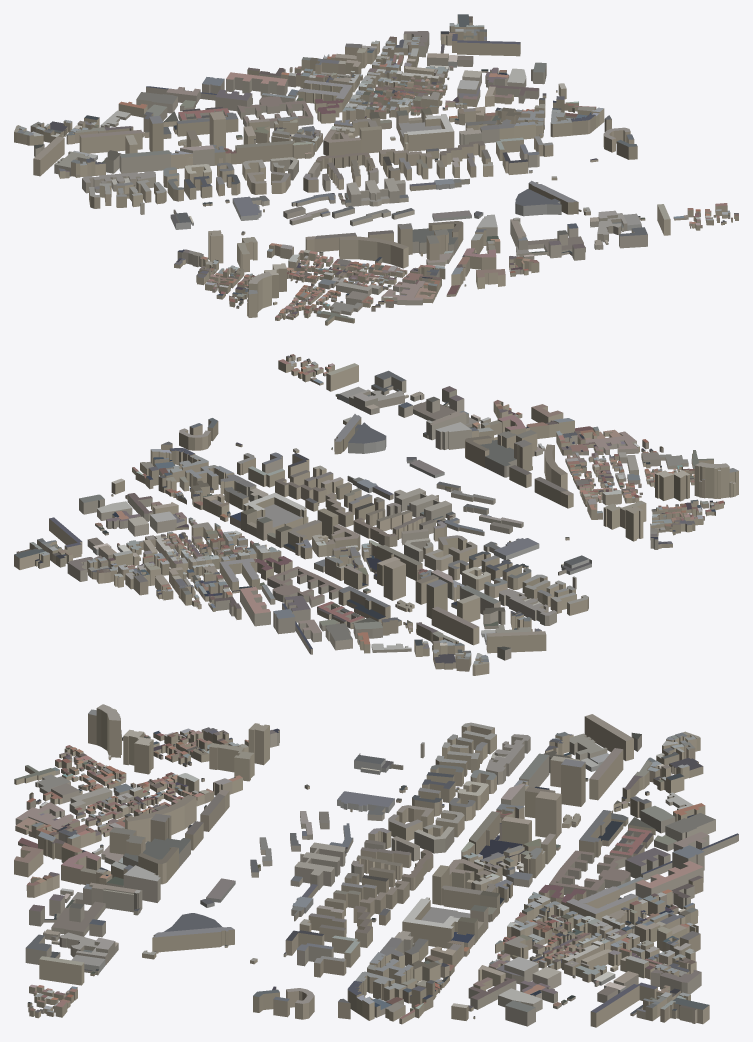
The picture shows the model from 3 angles, top to bottom: view 1: azimuth 30°, elevation 25°; view 2: azimuth 150°, elevation 25°; view 3: azimuth 270°, elevation 25°; orthographic projection. The views are drawn at different scales.
Visible parts, largest first — view 1: tuile; view 2: tuile; view 3: tuile.
Part boxes in pixels (box(x1,y1,x2,y2)): tuile: box(14, 14, 738, 325); tuile: box(14, 354, 738, 675); tuile: box(14, 704, 738, 1027).
Bounding box in the file's own units: 1044 × 74.09 × 1086.
